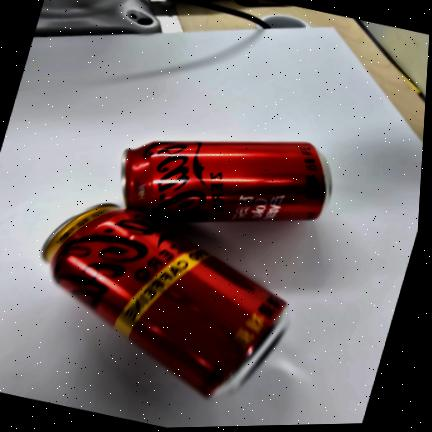can_coke_decaf: (46, 203, 290, 394)
can_coke_zero: (123, 140, 332, 223)
